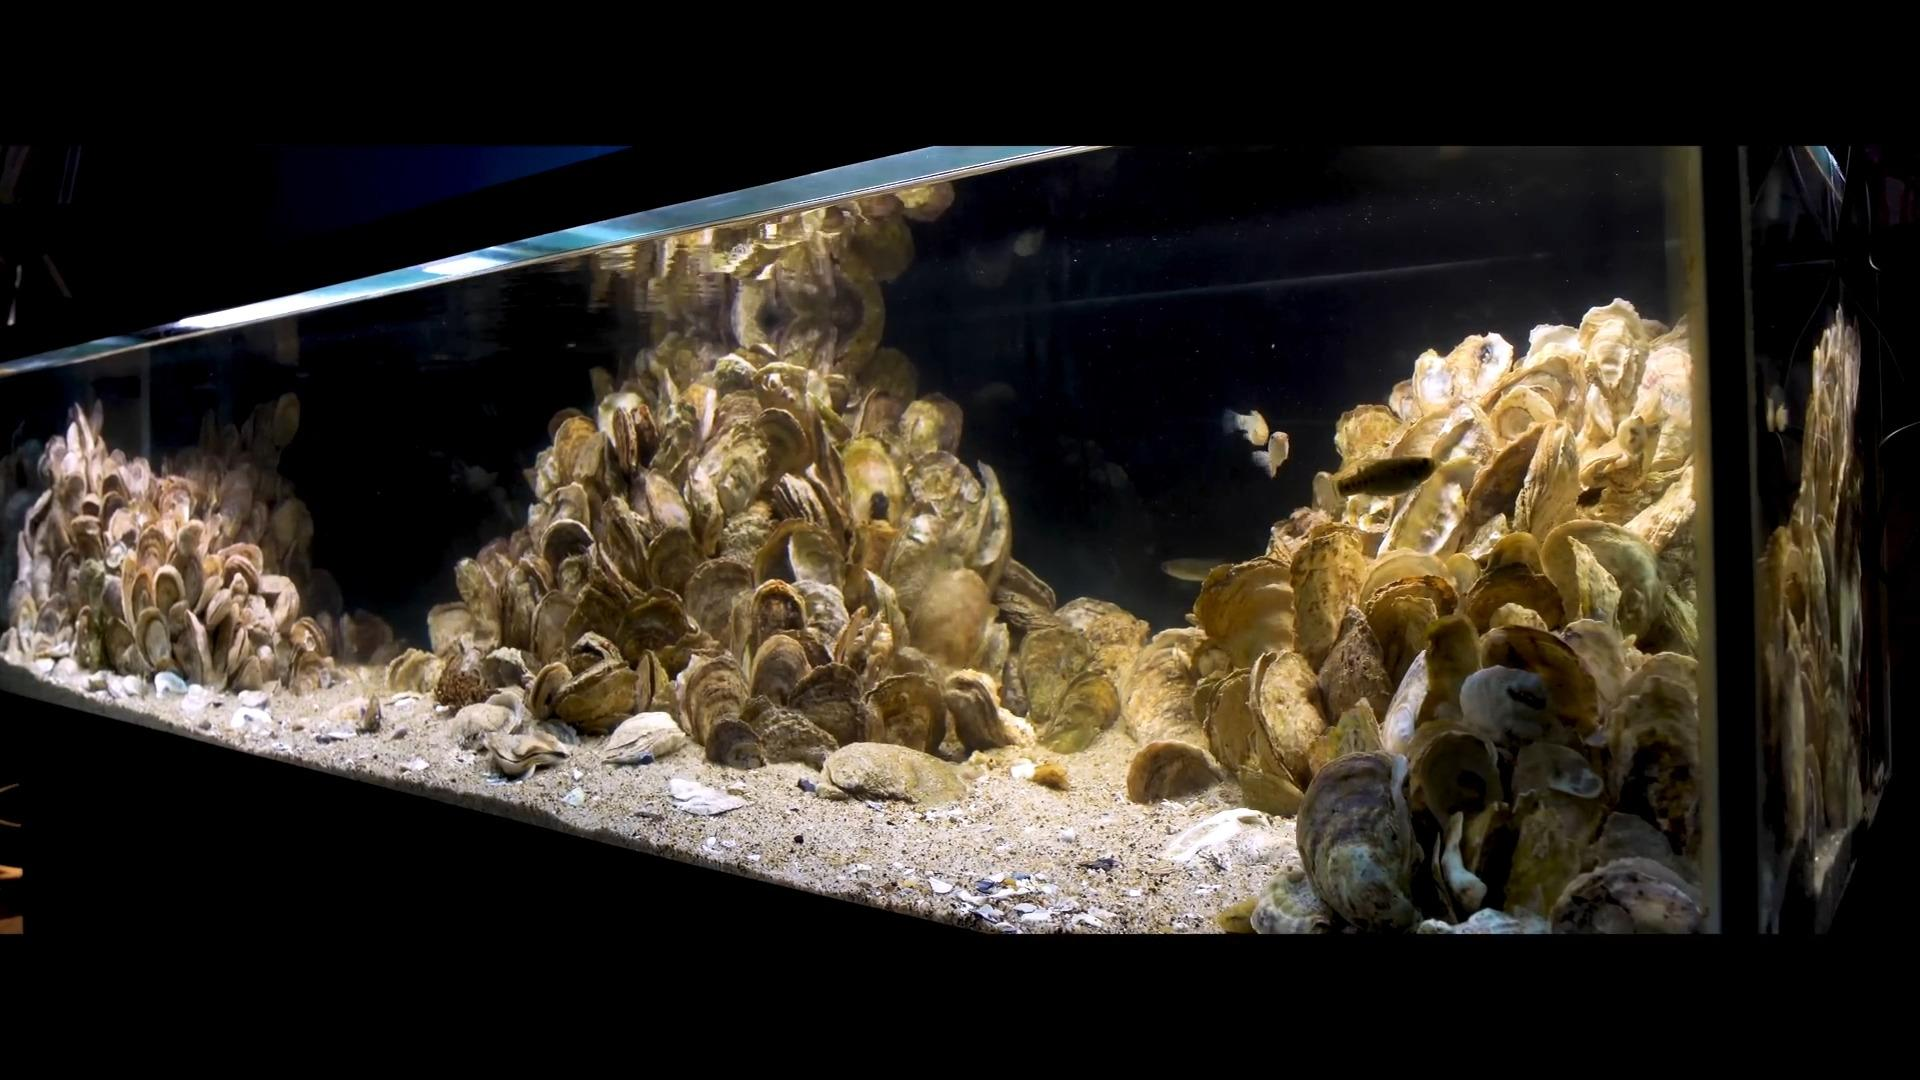Oyster: (1292, 749, 1423, 932), (1601, 654, 1706, 836), (1549, 518, 1668, 649), (1502, 773, 1605, 923), (1476, 624, 1598, 741), (1545, 857, 1708, 934), (1193, 555, 1299, 669), (1457, 423, 1551, 550), (1288, 525, 1370, 669), (1253, 641, 1331, 783), (1361, 574, 1456, 690), (1316, 605, 1396, 735), (1462, 538, 1567, 636), (906, 566, 996, 675), (816, 740, 960, 807), (1407, 725, 1503, 825), (1511, 417, 1582, 543), (695, 421, 778, 526), (1011, 621, 1100, 713), (785, 659, 873, 750), (1033, 667, 1121, 757), (1507, 740, 1607, 818), (1203, 662, 1267, 782), (866, 671, 949, 760), (682, 555, 758, 647), (942, 670, 1022, 757), (678, 654, 750, 750), (839, 433, 909, 531), (553, 662, 637, 735), (1127, 740, 1224, 803), (616, 588, 694, 666), (749, 704, 839, 770), (1162, 807, 1263, 865), (1250, 864, 1331, 935), (746, 575, 812, 659), (746, 632, 815, 708), (746, 401, 811, 481), (1594, 808, 1681, 868), (1051, 596, 1142, 653), (595, 498, 653, 585), (530, 582, 587, 667), (599, 389, 658, 471), (785, 524, 849, 596), (632, 467, 694, 542), (789, 579, 855, 649), (836, 605, 893, 686), (599, 712, 687, 764), (898, 393, 964, 462), (1333, 404, 1404, 464), (1234, 764, 1308, 819), (646, 525, 702, 597), (485, 732, 571, 778), (993, 555, 1058, 616), (769, 472, 827, 534), (663, 777, 748, 818), (338, 609, 397, 667), (173, 609, 216, 688), (705, 717, 767, 773), (266, 493, 314, 564), (450, 698, 518, 746), (541, 516, 597, 574), (253, 574, 302, 641), (525, 659, 574, 725), (542, 480, 593, 541), (632, 647, 675, 719), (382, 647, 444, 696), (426, 601, 477, 658), (454, 556, 492, 630), (136, 609, 174, 679), (483, 645, 538, 692), (568, 630, 626, 675), (287, 615, 332, 670), (483, 684, 529, 729), (319, 695, 372, 732), (269, 390, 302, 447), (74, 556, 108, 608), (229, 649, 268, 692), (1312, 471, 1345, 518), (1027, 761, 1071, 791), (228, 703, 274, 731), (357, 694, 385, 735), (153, 670, 189, 696), (109, 673, 142, 700), (667, 777, 702, 799), (385, 692, 421, 712), (236, 688, 270, 708), (83, 670, 109, 692), (33, 657, 58, 678), (928, 876, 955, 895)
